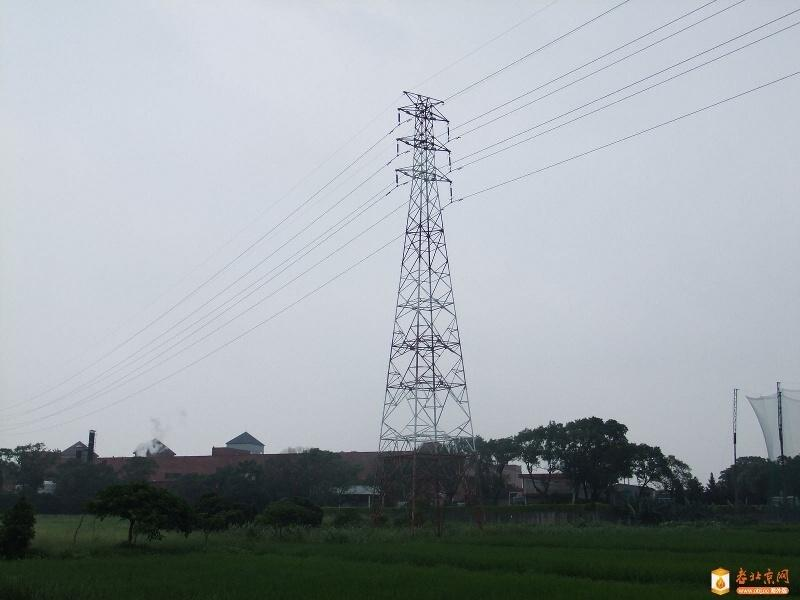power_tower: (380, 80, 491, 481)
